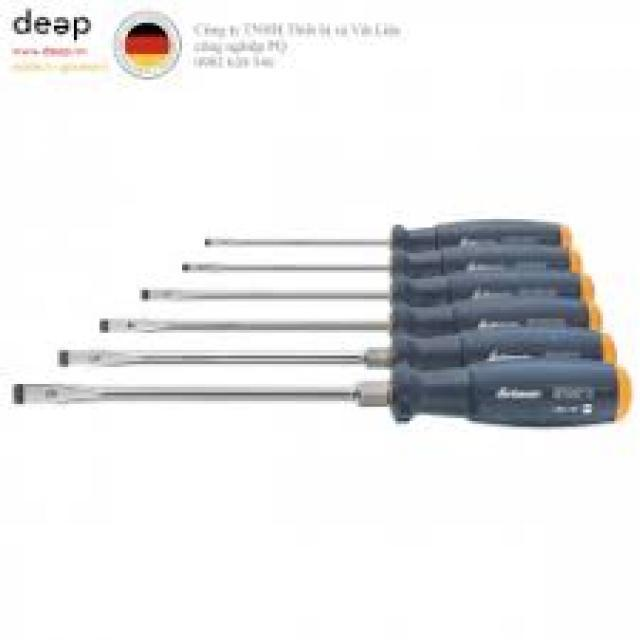screwdriver: (8, 358, 634, 429), (54, 327, 626, 381), (99, 296, 606, 347), (137, 268, 600, 312), (172, 242, 585, 288), (200, 213, 579, 262)
